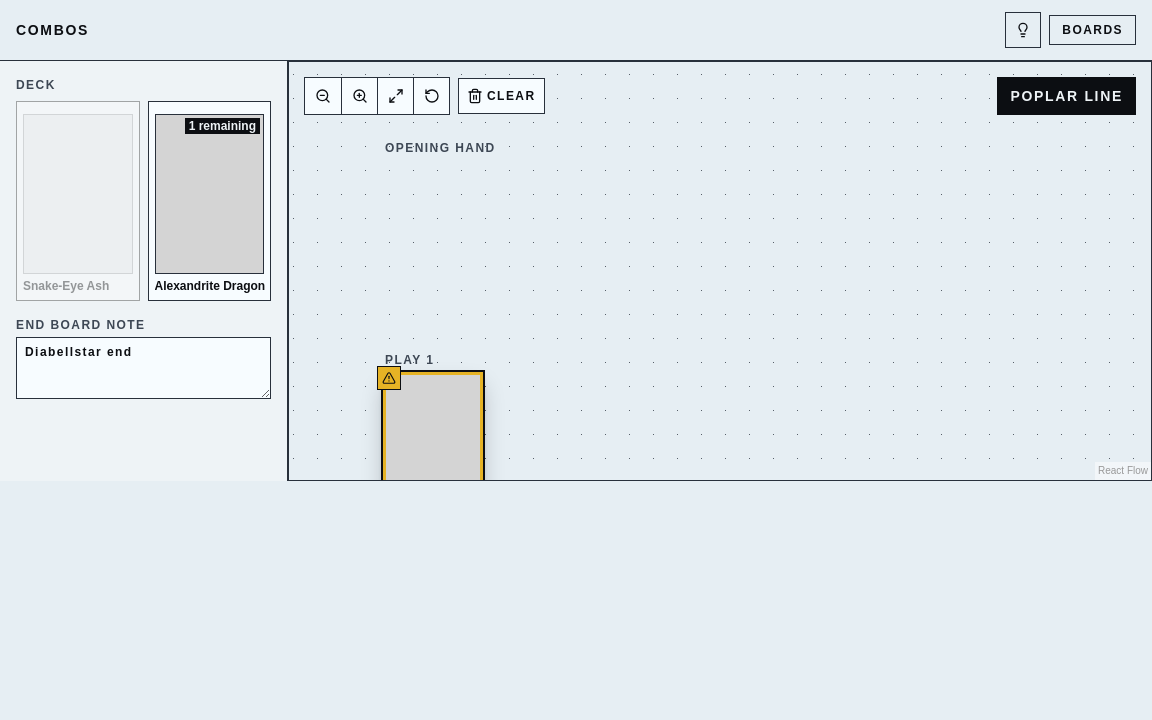
WorkshopCombosPane › deletes the open line
Click the button "Boards": point(1093, 30) [1049,15,1136,45]
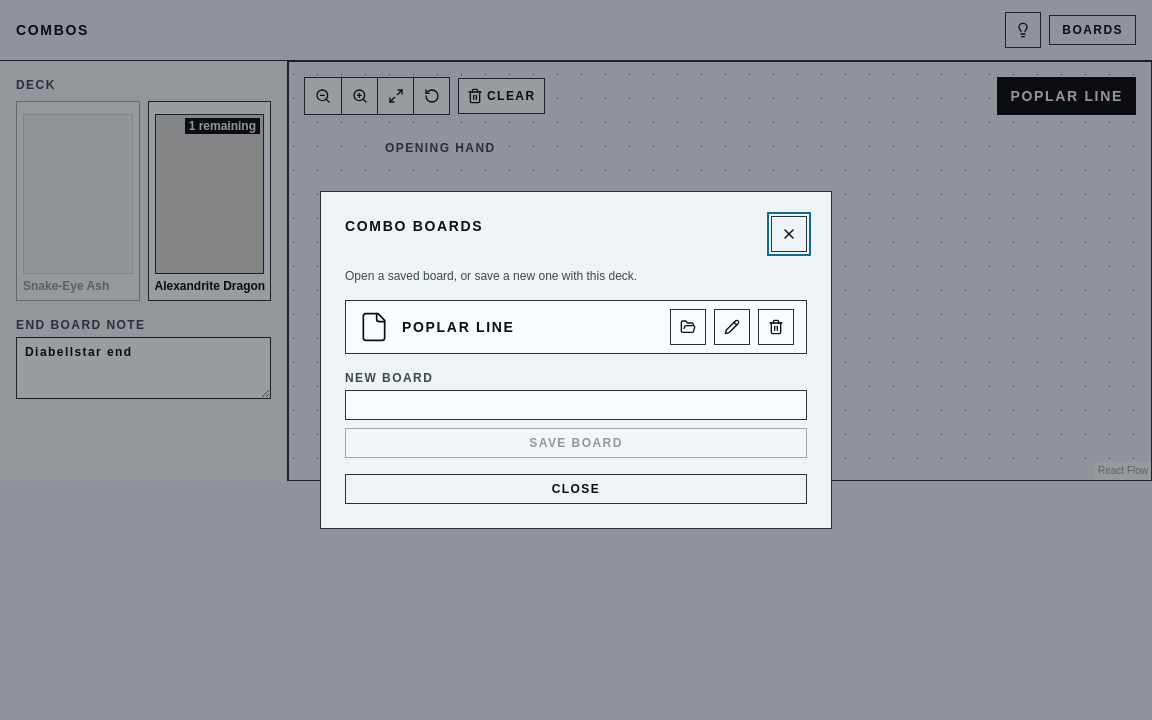
Click the button named "Rename Poplar Line": point(732, 327) [714,309,750,345]
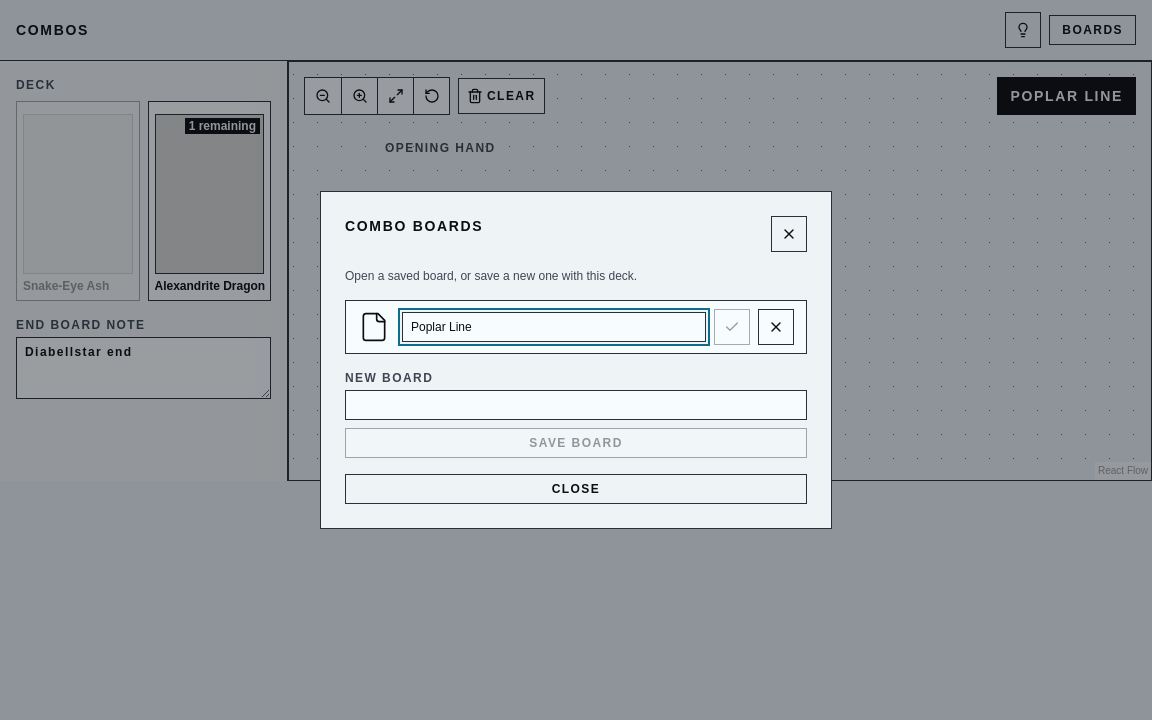
Press Escape
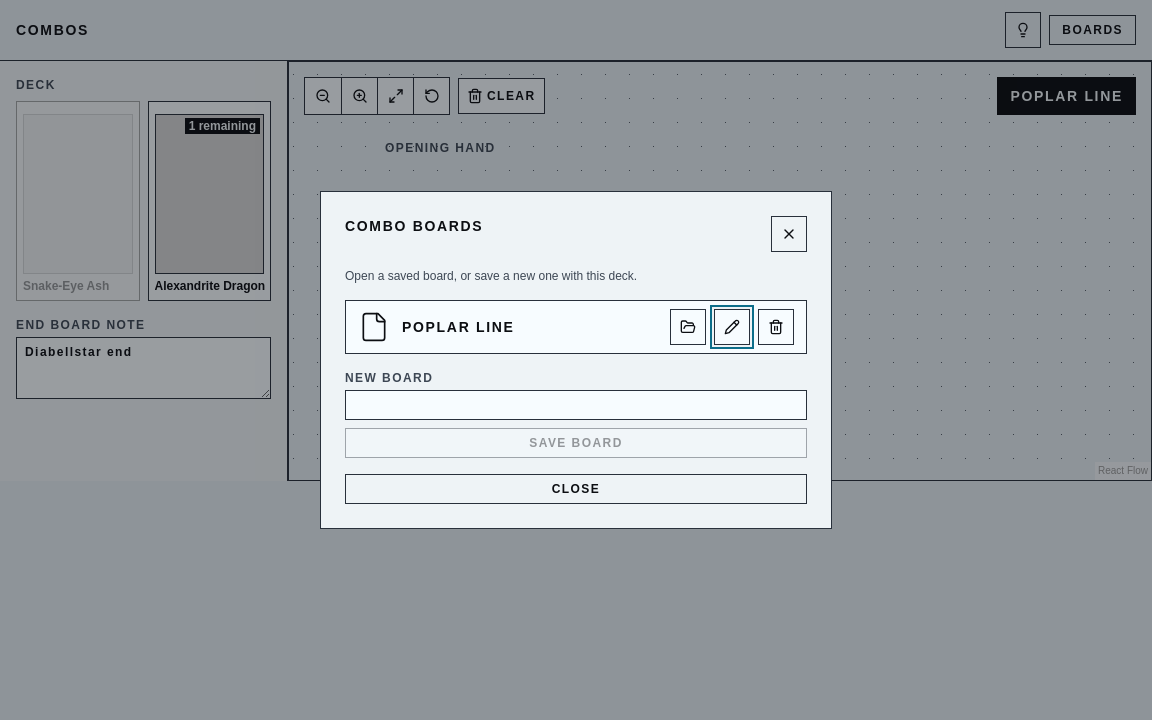
Expected: the field labelled "Rename Poplar Line" is not shown
Expected: the dialog "Combo boards" is shown, [320,191,832,529]
Click the button named "Rename Poplar Line": point(732, 327) [714,309,750,345]
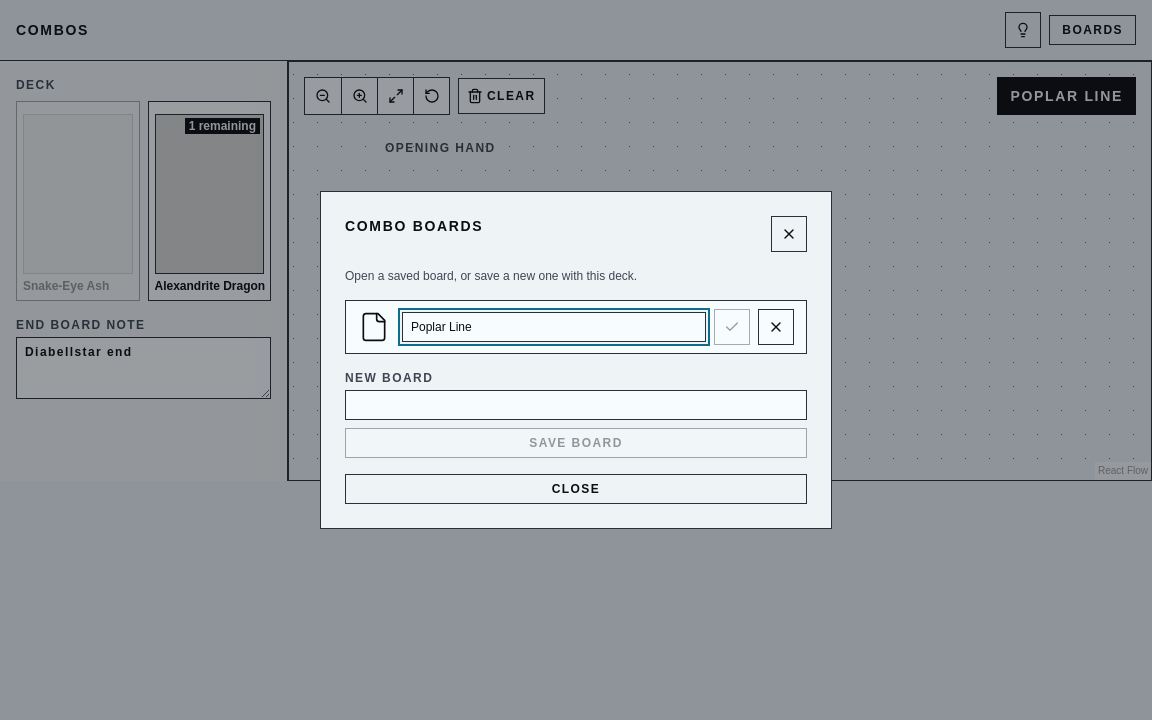
Replace the text in the field named "Rename Poplar Line" with "Night board": point(554, 327) [402,312,706,342]
Click the button named "Save name": point(732, 327) [714,309,750,345]
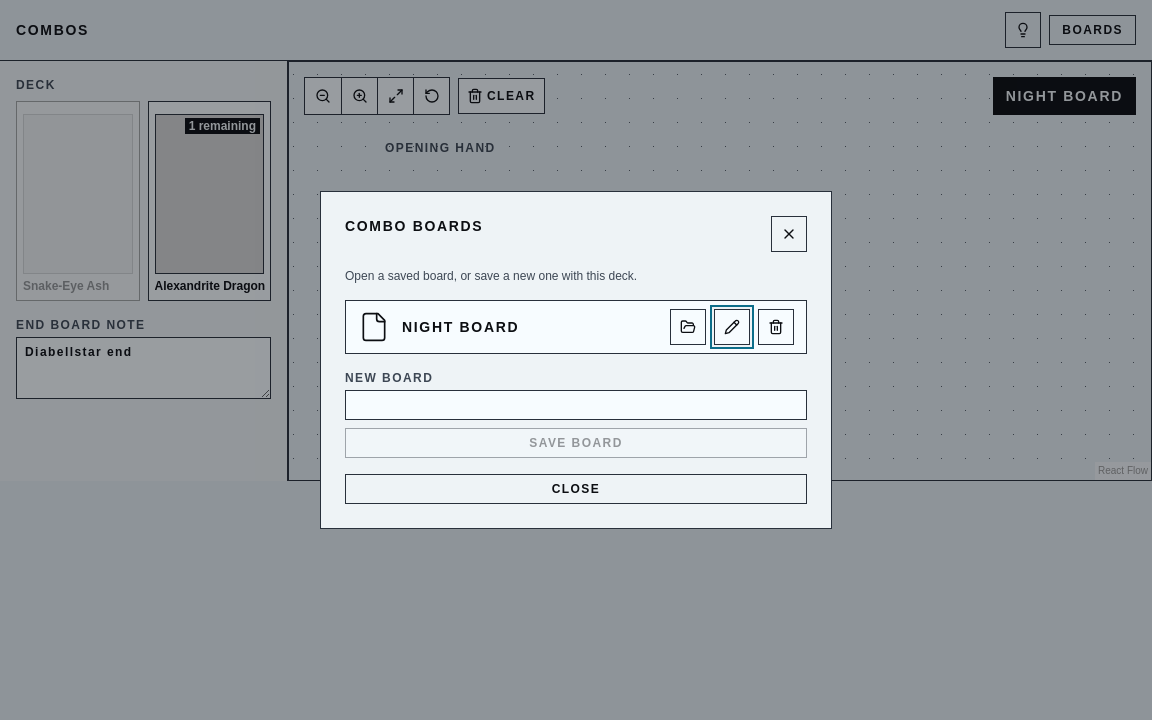
Click the button named "Delete Night board": point(776, 327) [758,309,794,345]
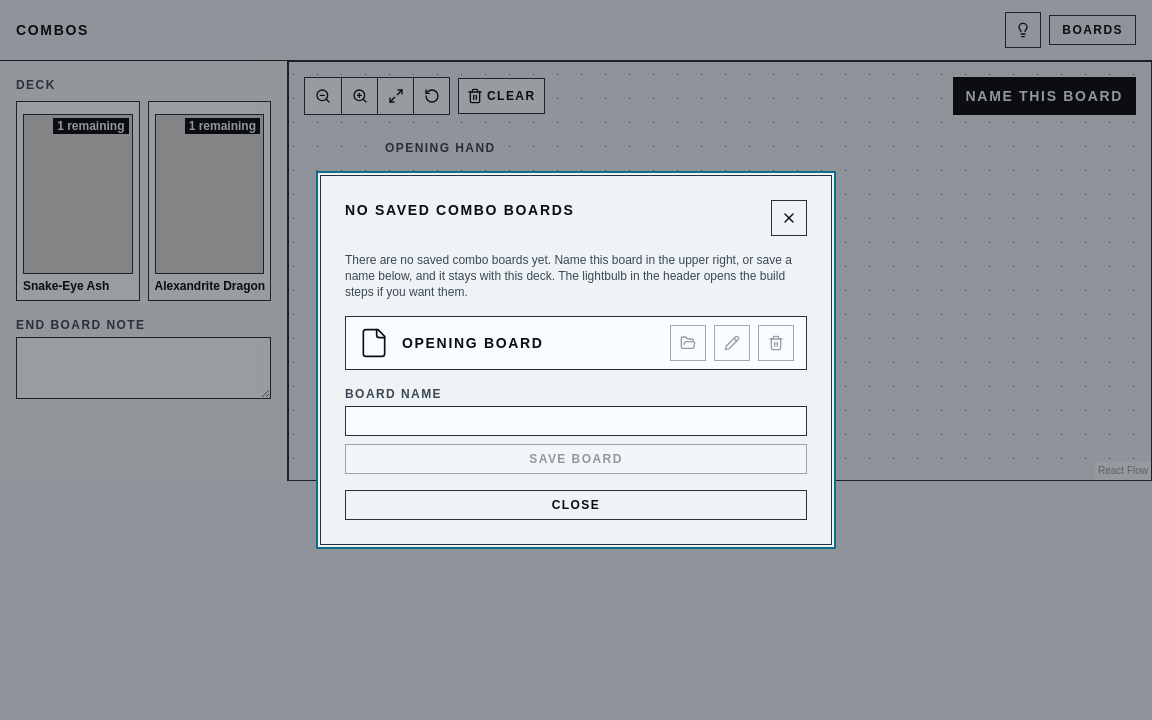
Expected: the dialog "No saved combo boards" shows "There are no saved combo boards yet", [345,253,792,299]
